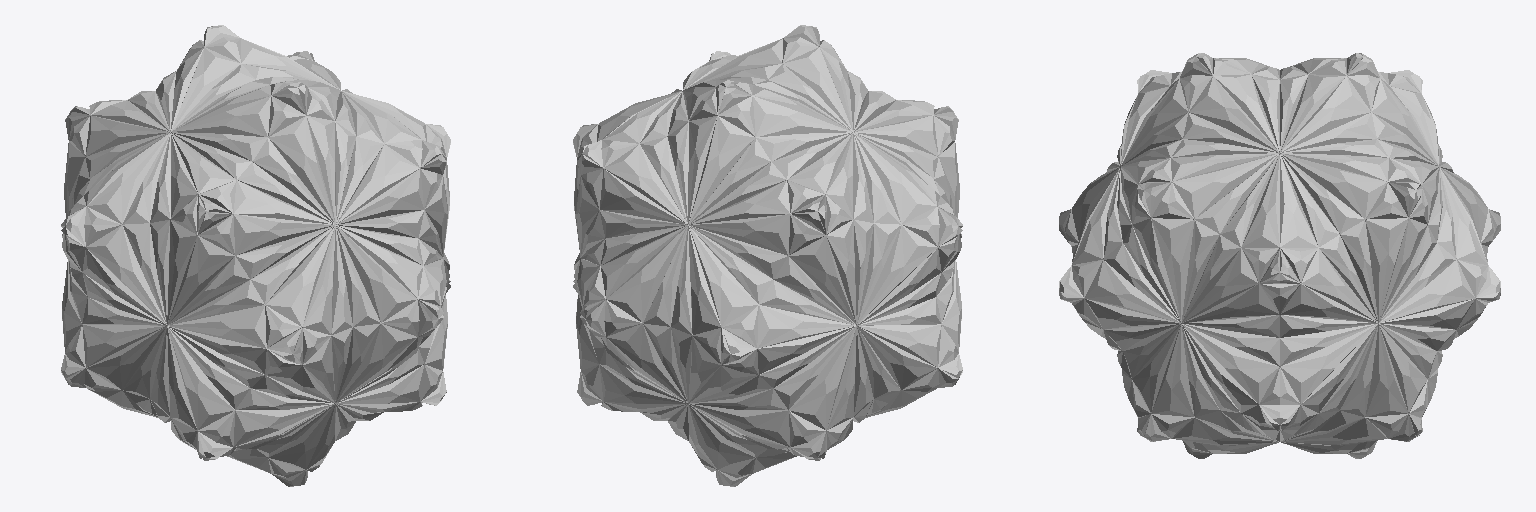
3 renders of one model, left to right at view 1: azimuth 30°, elevation 25°; view 2: azimuth 150°, elevation 25°; view 3: azimuth 270°, elevation 25°, orthographic.
Visible parts, largest first — view 1: temp1:_Instancer_Objects temp1:pCone1 shape01 _Shapes; view 2: temp1:_Instancer_Objects temp1:pCone1 shape01 _Shapes; view 3: temp1:_Instancer_Objects temp1:pCone1 shape01 _Shapes.
Part boxes in pixels (left/top/right/bottom): temp1:_Instancer_Objects temp1:pCone1 shape01 _Shapes: left=61, top=25, right=450, bottom=486; temp1:_Instancer_Objects temp1:pCone1 shape01 _Shapes: left=573, top=25, right=962, bottom=486; temp1:_Instancer_Objects temp1:pCone1 shape01 _Shapes: left=1059, top=53, right=1500, bottom=458.
Size of the model in its own units: 36.33 by 36.33 by 36.33.